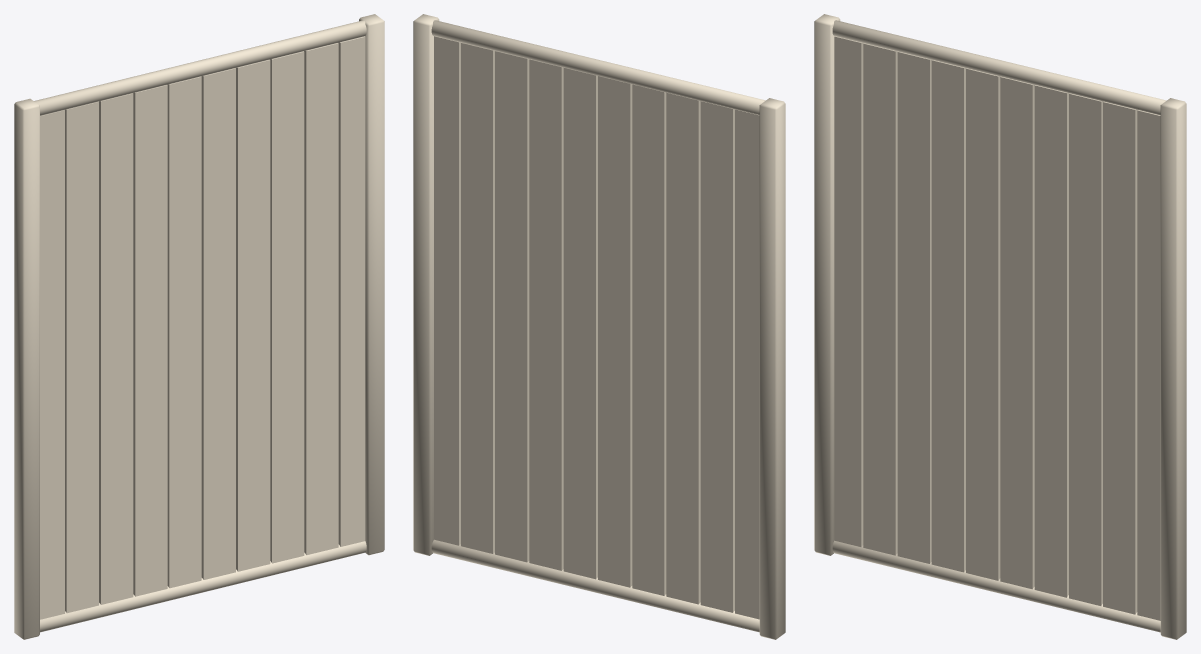
The model's file is SM_module_wall_02.glb.
The picture shows the model from 3 angles, left to right: view 1: azimuth 30°, elevation 25°; view 2: azimuth 150°, elevation 25°; view 3: azimuth 330°, elevation 25°; orthographic projection.
Visible parts, largest first — view 1: SM_module_wall_02; view 2: SM_module_wall_02; view 3: SM_module_wall_02.
Part boxes in pixels (x1,y1,x2,y2): SM_module_wall_02: [14, 14, 384, 639]; SM_module_wall_02: [413, 14, 785, 639]; SM_module_wall_02: [814, 14, 1186, 639].
Size of the model in its own units: 2 by 2.8 by 0.1.
